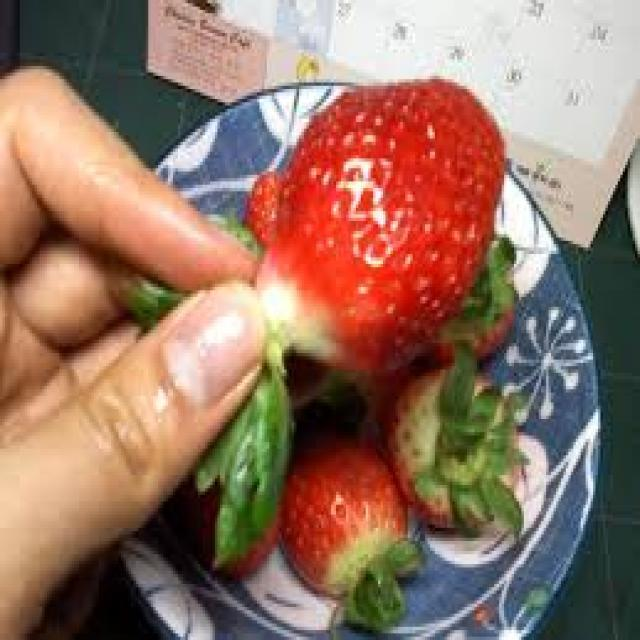straw-ripe: (255, 80, 506, 372), (280, 435, 405, 596)
